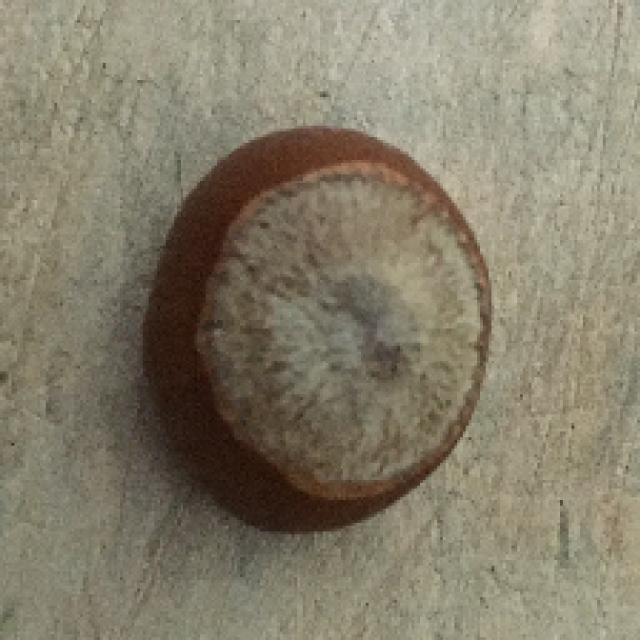qualityHazelnut: (134, 128, 493, 538)
